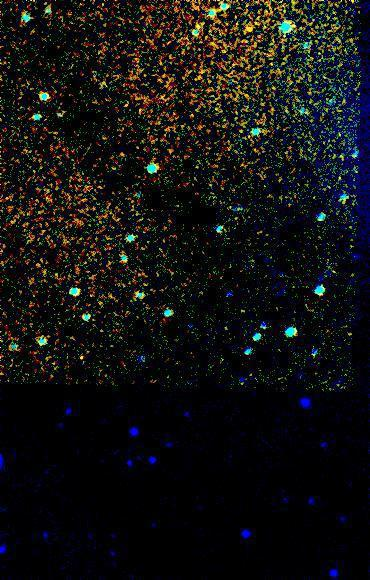star: (234, 13, 264, 43)
